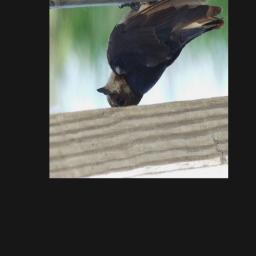Swallow: (96, 0, 225, 109)
